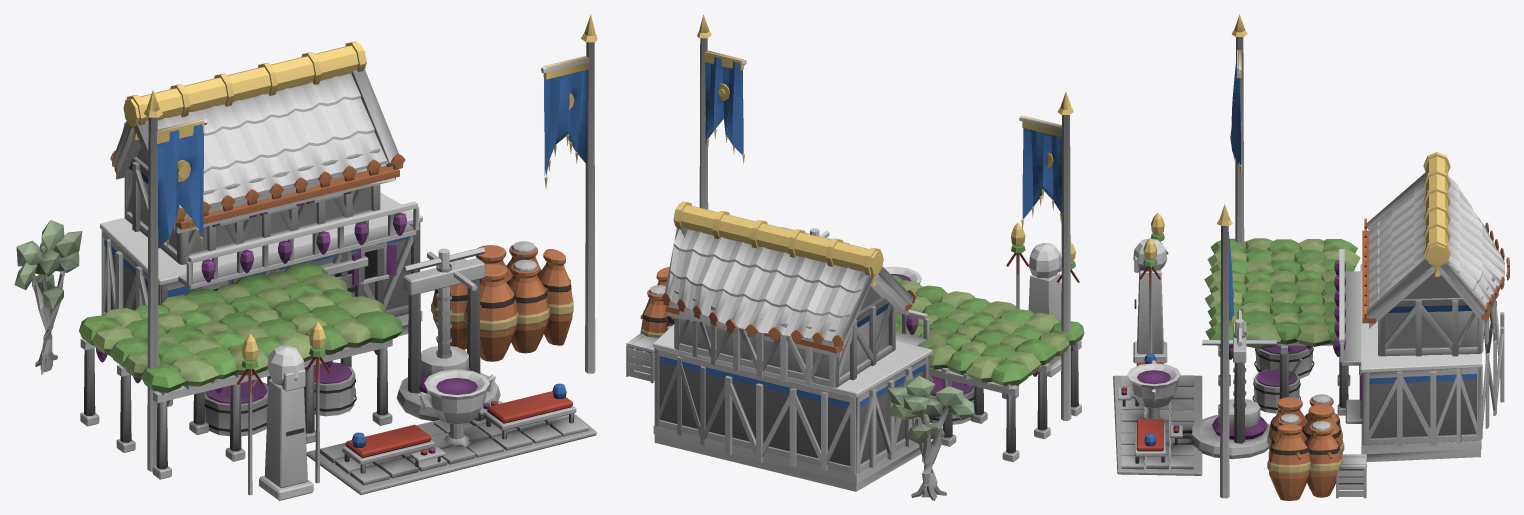
The model's file is brewery-l3.glb.
3 renders of one model, left to right at view 1: azimuth 30°, elevation 25°; view 2: azimuth 150°, elevation 25°; view 3: azimuth 270°, elevation 25°, orthographic. The views are drawn at different scales.
Visible parts, largest first — view 1: brewery-l3; view 2: brewery-l3; view 3: brewery-l3.
Part boxes in pixels (bbox=[...]): brewery-l3: bbox=[14, 14, 597, 500]; brewery-l3: bbox=[626, 14, 1084, 500]; brewery-l3: bbox=[1113, 14, 1509, 500].
Bounding box in the file's own units: 1.46 × 1.15 × 1.32.
